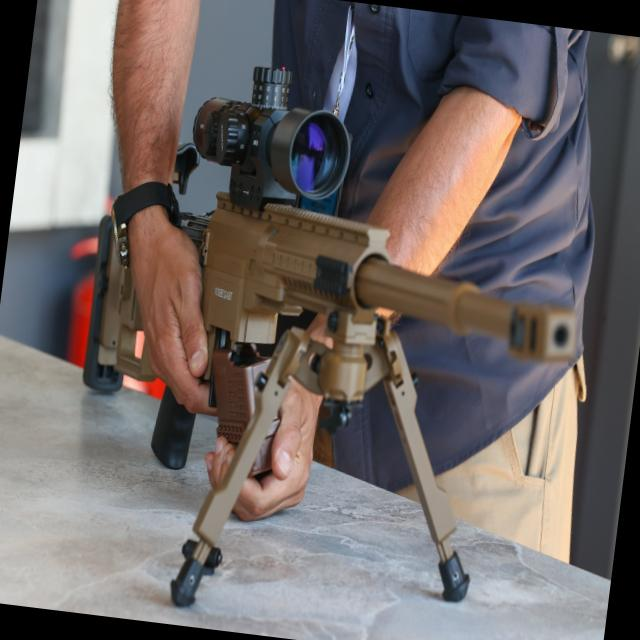Weapon: (53, 42, 606, 640)
